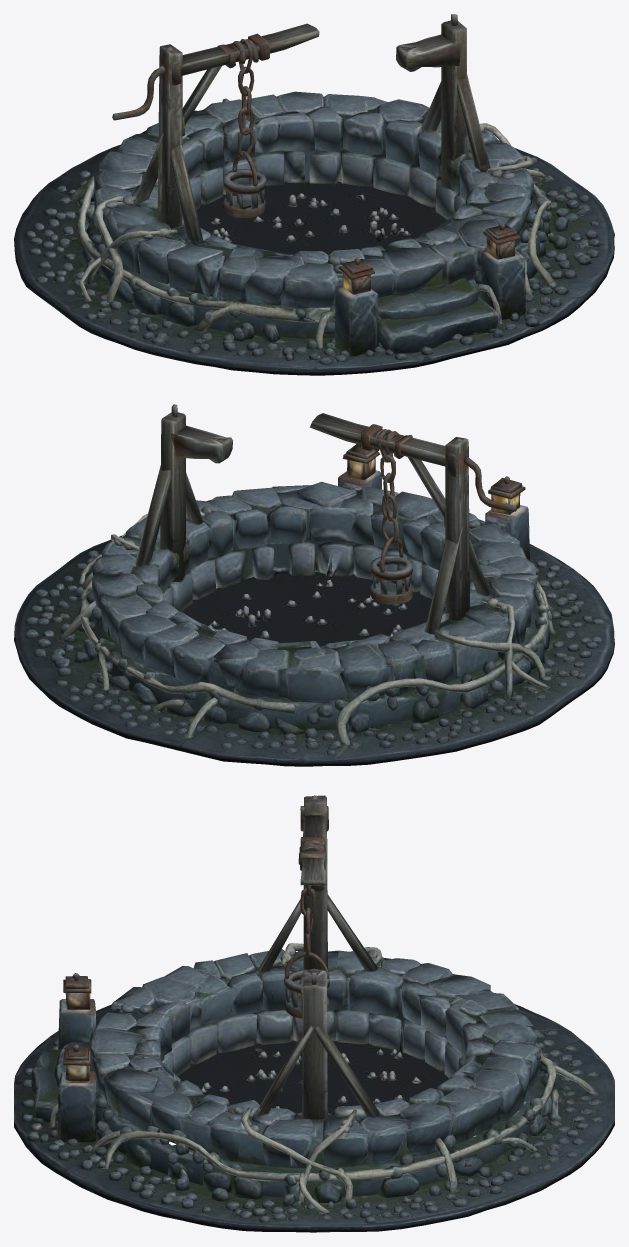
File: praca_poco.glb
The picture shows the model from 3 angles, top to bottom: view 1: azimuth 30°, elevation 25°; view 2: azimuth 150°, elevation 25°; view 3: azimuth 270°, elevation 25°; orthographic projection.
Visible parts, largest first — view 1: Mesh_0; view 2: Mesh_0; view 3: Mesh_0.
Part boxes in pixels (left/top/right/bottom): Mesh_0: left=14, top=14, right=614, bottom=375; Mesh_0: left=14, top=404, right=614, bottom=766; Mesh_0: left=14, top=795, right=614, bottom=1232.
Size of the model in its own units: 1 by 0.457 by 1.
Materials: 1 (1 with a texture image).
